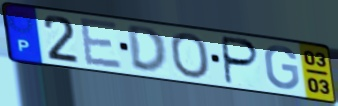2: (42, 14, 82, 66)
D: (125, 25, 170, 76)
E: (77, 15, 125, 70)
G: (263, 45, 302, 92)
O: (168, 31, 212, 81)
P: (222, 35, 262, 87)
